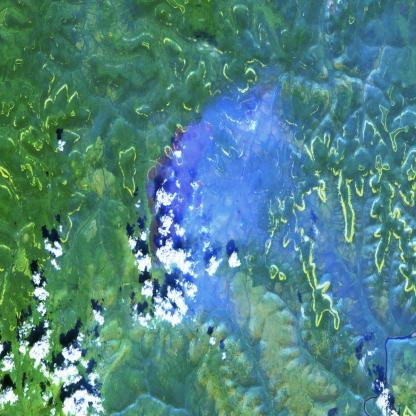fire: (144, 109, 294, 277)
